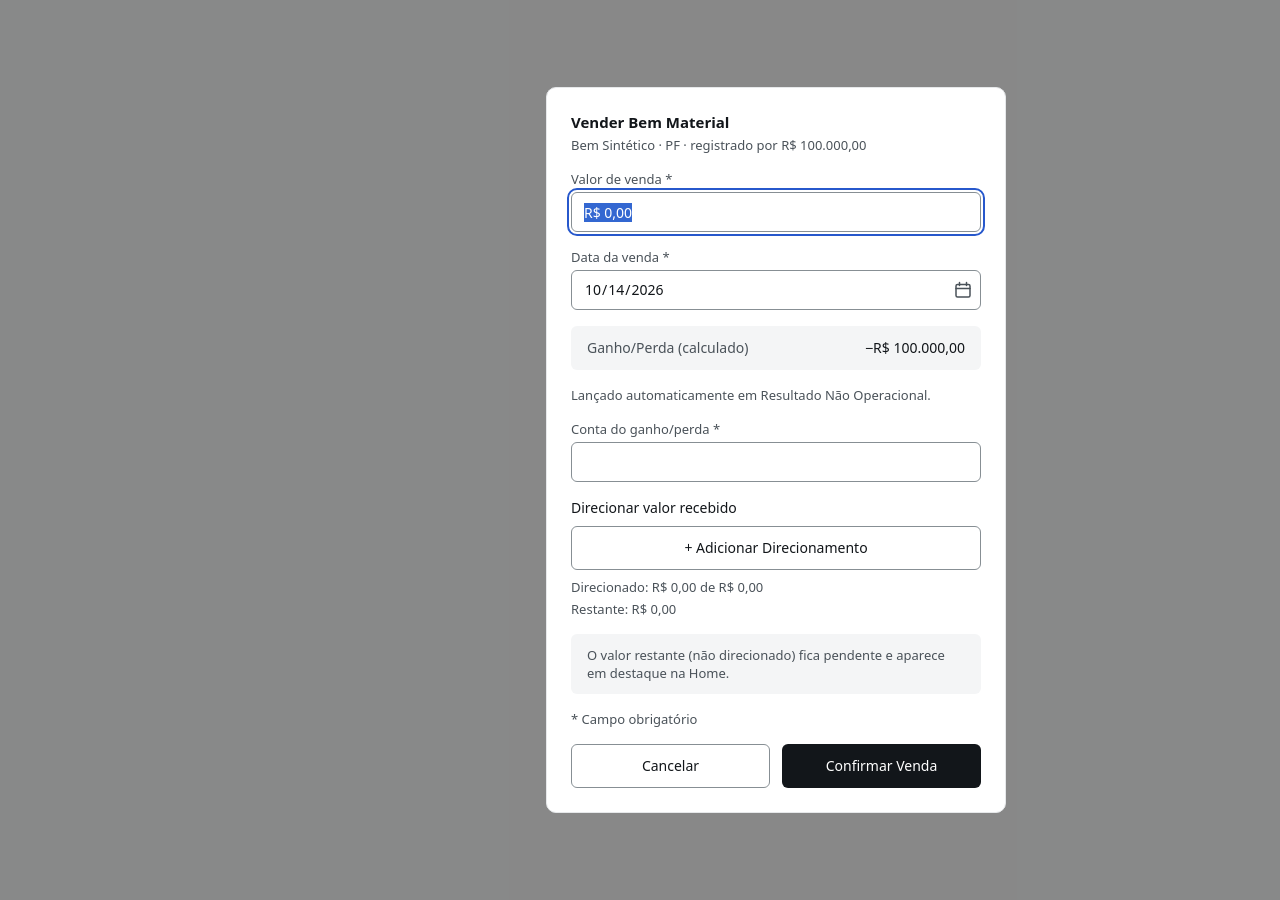
Test: Vender Bem Material — Destino de Passivo (files_design/03 "Objeto Direcionamento") › o Destino é um campo de busca (textbox), não um <select> só de existentes
The image size is (1280, 900).
Click the button "+ Adicionar Direcionamento": (776, 548) [571, 526, 981, 570]
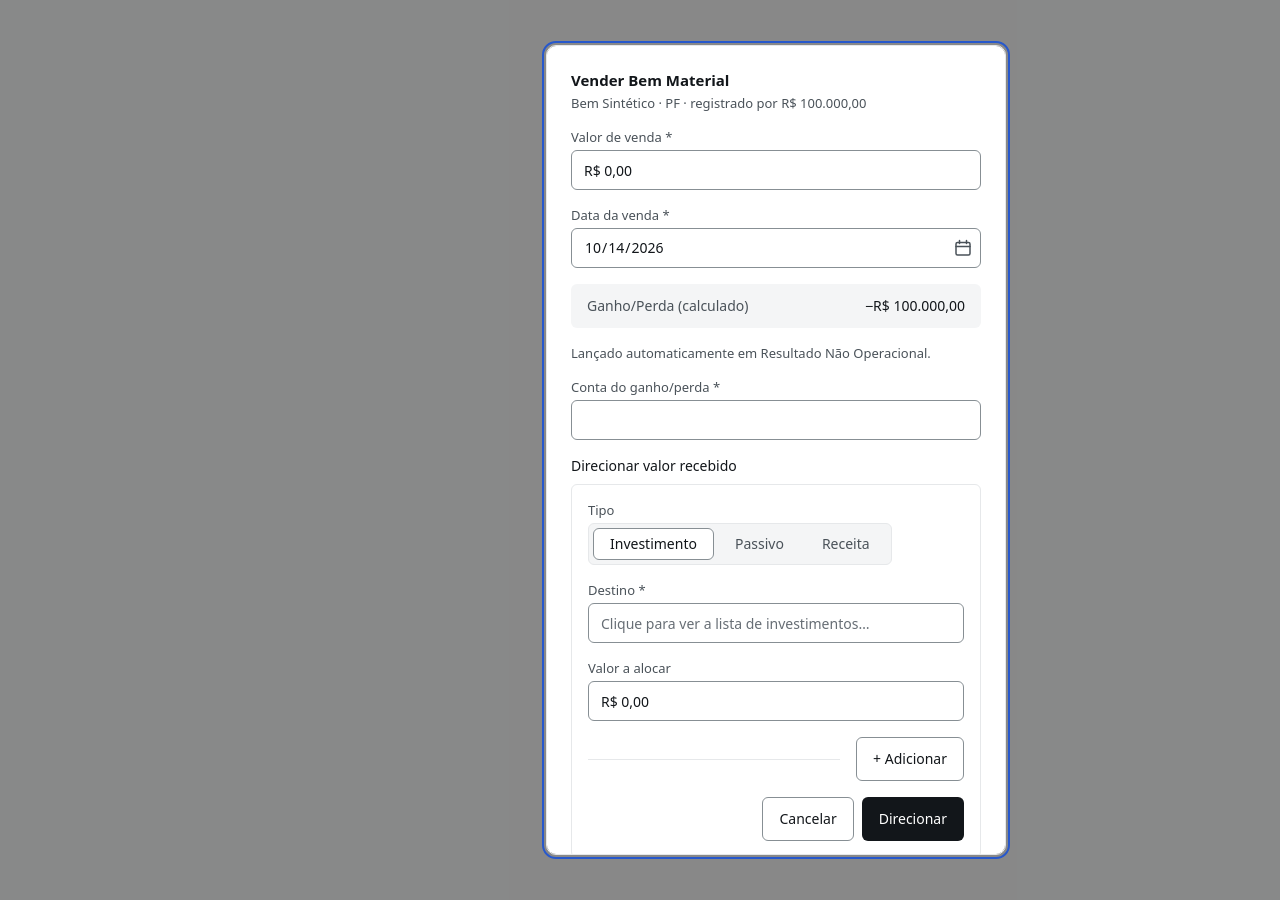
Click the radio button labelled "Passivo": (759, 544) [718, 528, 801, 560]
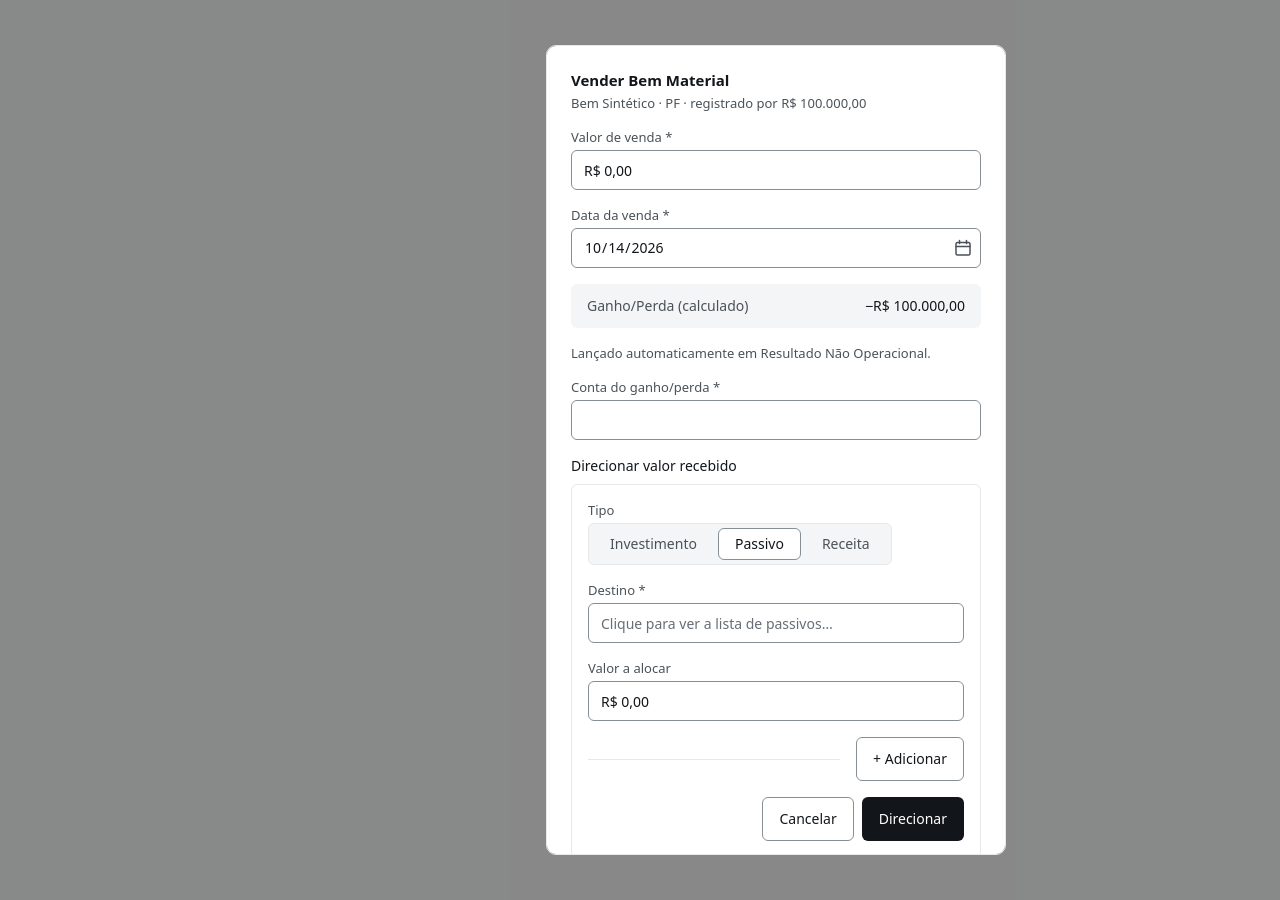
Expected: the field labelled "Destino" is shown, [588, 603, 964, 643]
